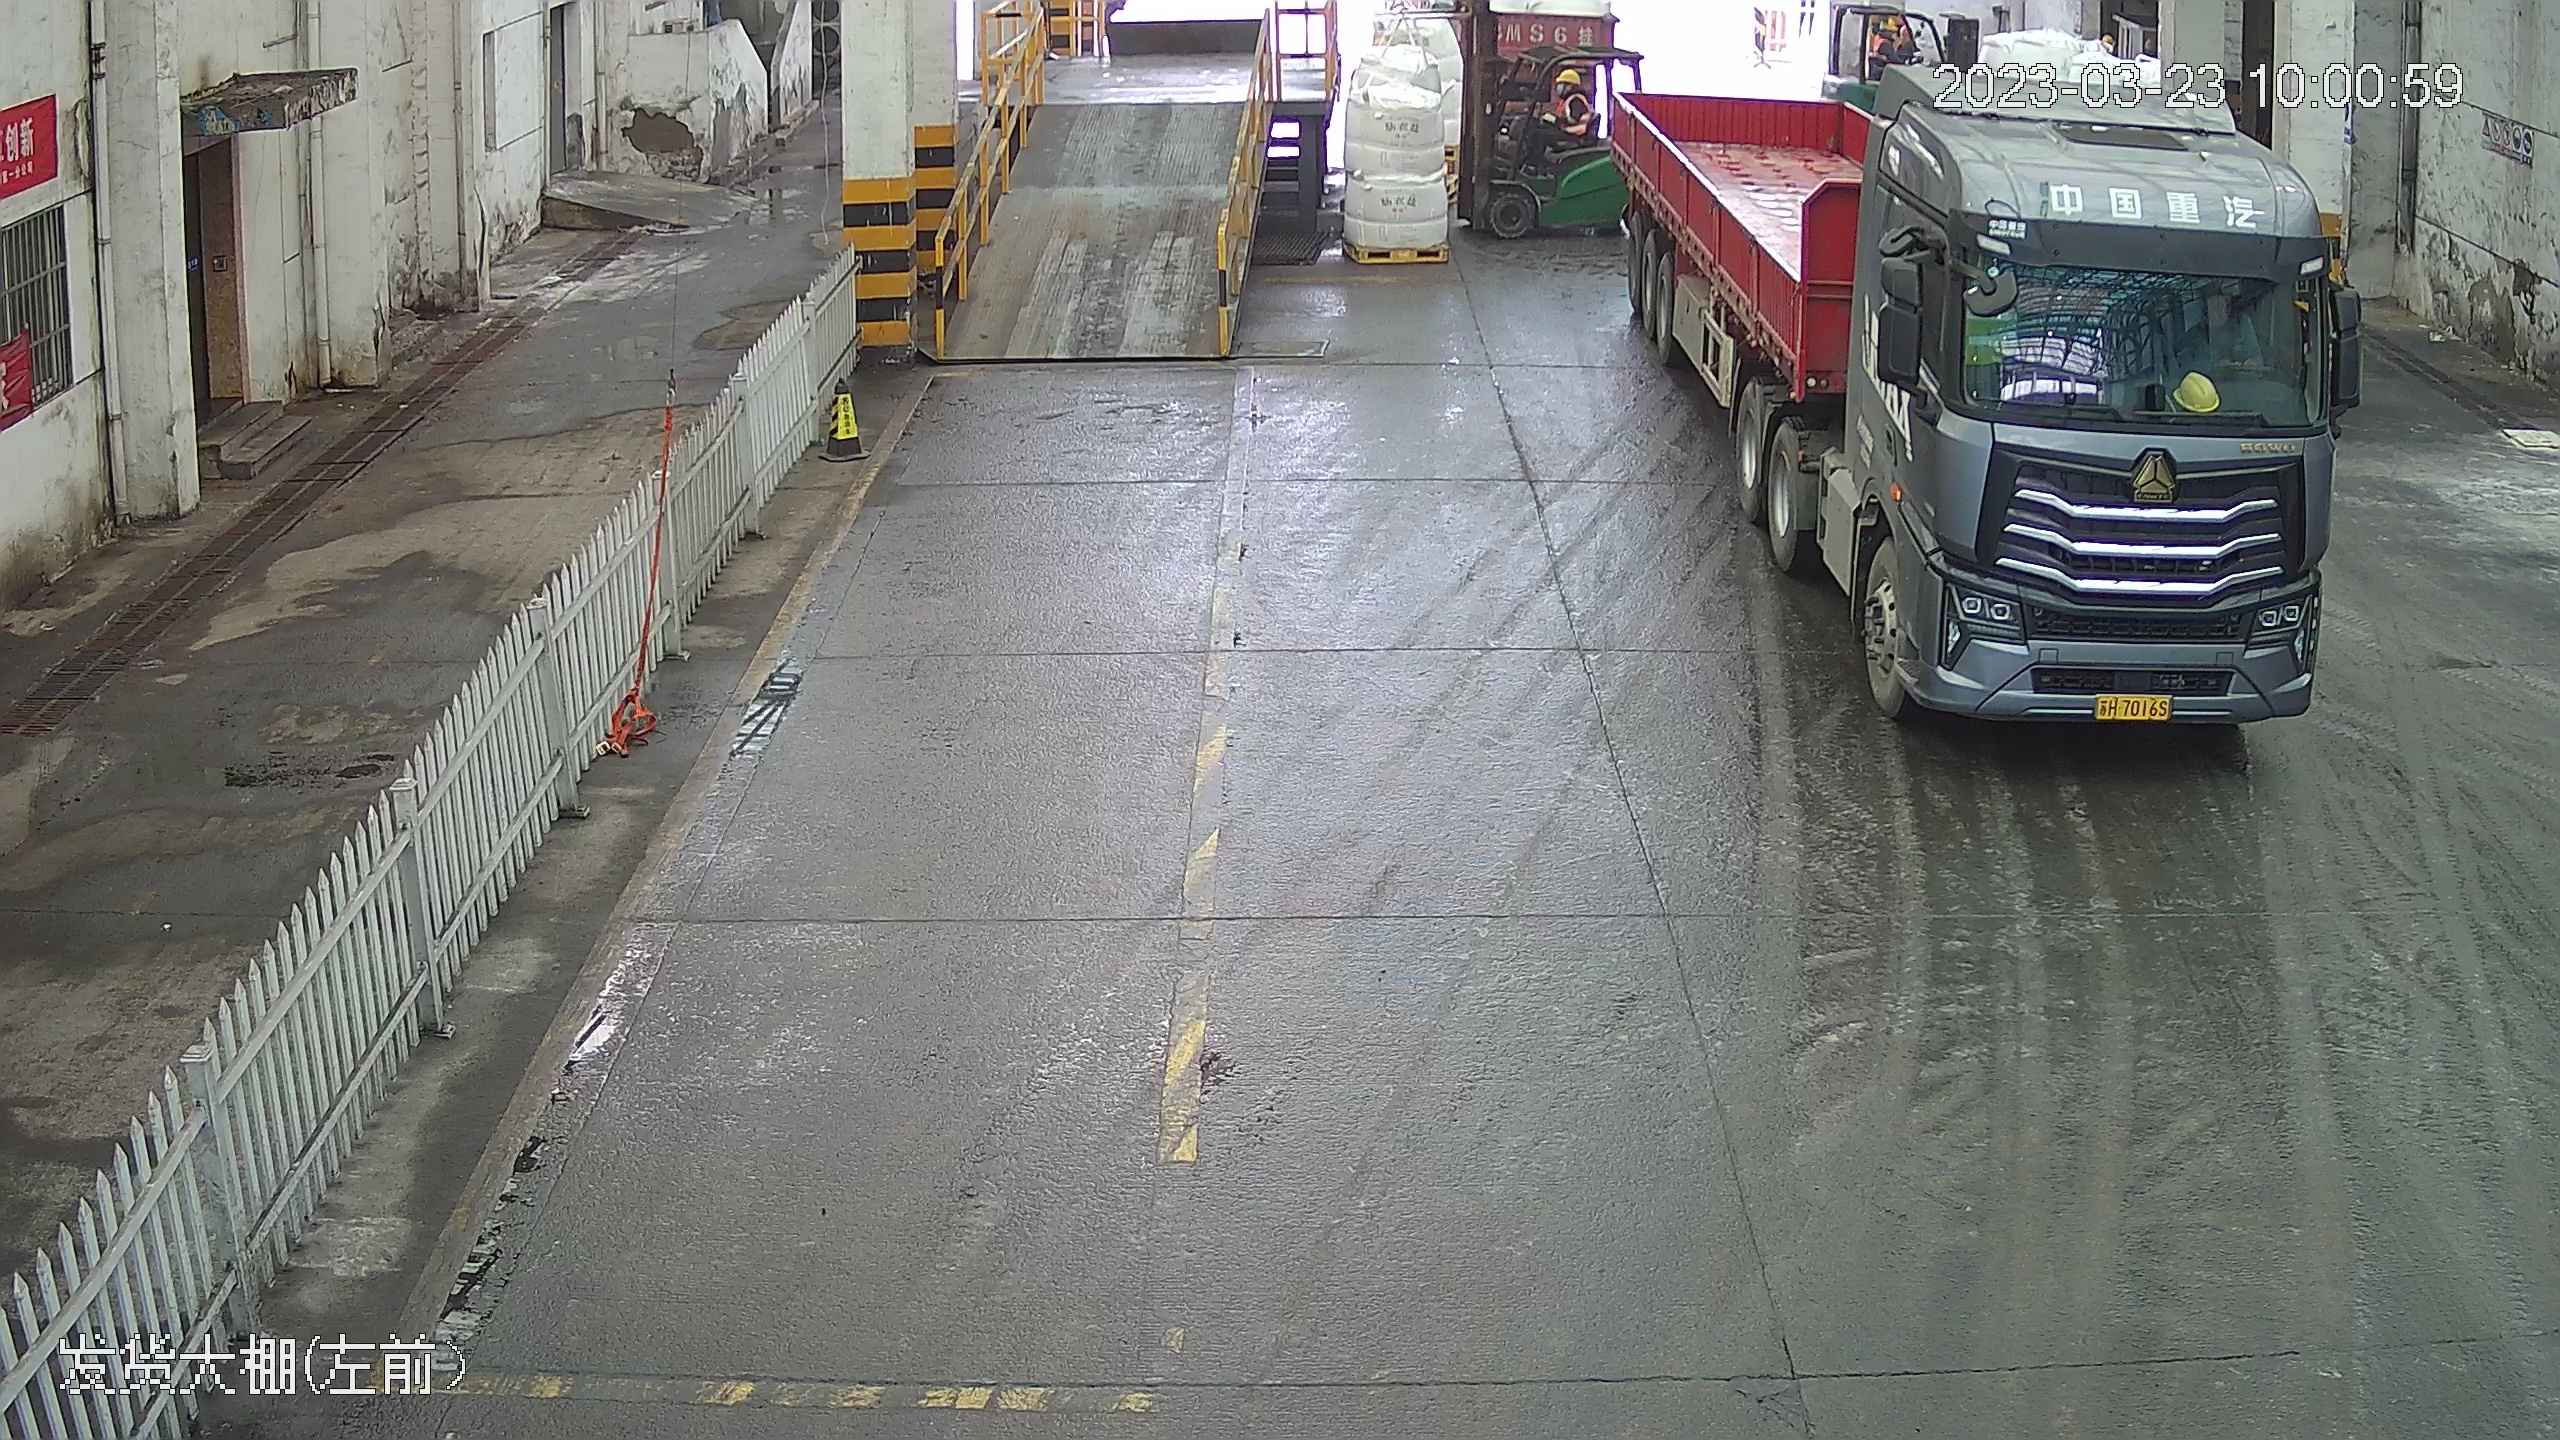head: (1542, 64, 1592, 115)
helmet: (2172, 368, 2222, 415), (1554, 67, 1581, 86)
people: (1523, 61, 1596, 168)
truck: (1619, 27, 2370, 747)
